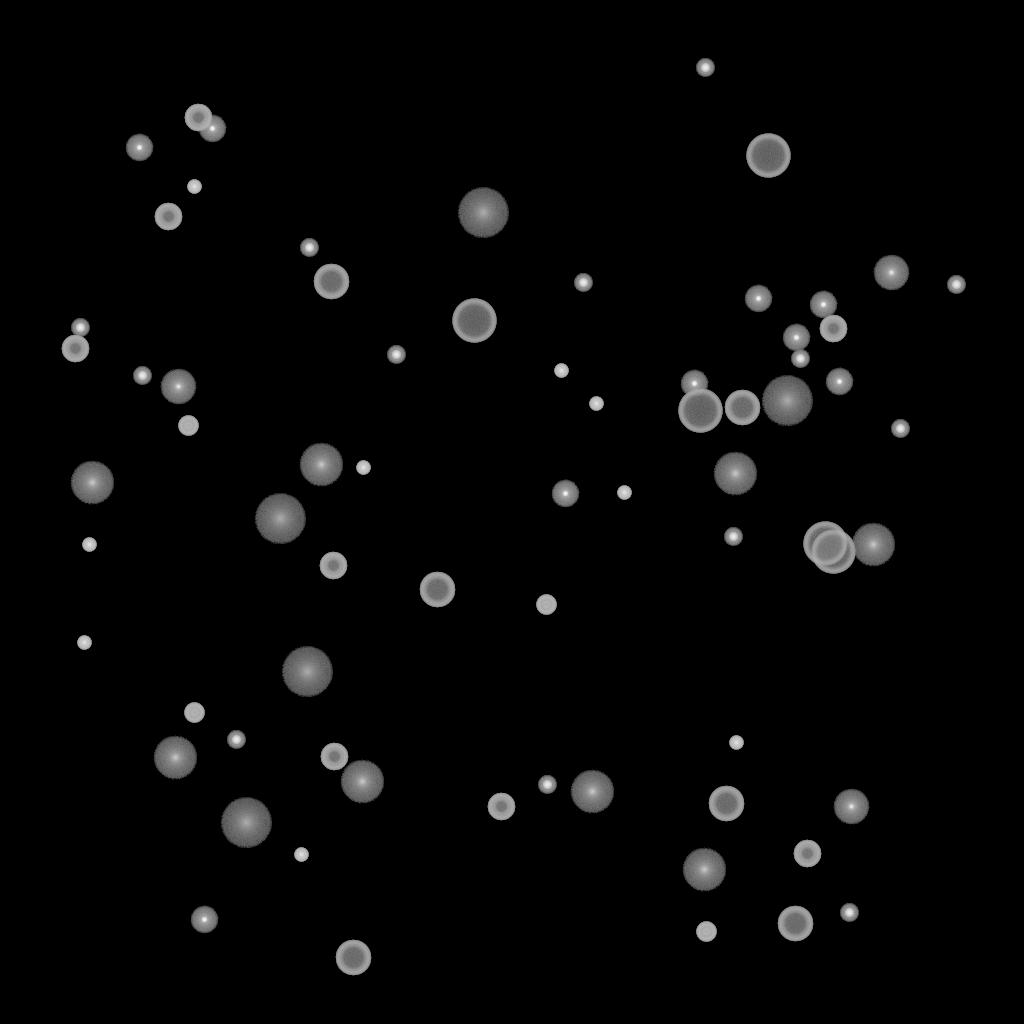depth:-10: (190, 906, 218, 934), (744, 285, 772, 313), (680, 370, 708, 398), (825, 368, 853, 396), (809, 291, 837, 319), (198, 115, 226, 143), (551, 480, 579, 508), (125, 134, 153, 162), (782, 324, 810, 352)
depth:-20: (133, 367, 151, 385), (71, 319, 89, 337), (791, 350, 809, 368), (574, 274, 592, 292), (891, 420, 909, 438), (387, 346, 405, 364), (227, 731, 245, 749), (696, 59, 714, 77), (538, 776, 556, 794), (840, 904, 858, 922), (300, 239, 318, 257), (724, 528, 742, 546), (947, 276, 965, 294)
depth:-30: (554, 364, 568, 378), (617, 486, 631, 500), (356, 461, 370, 475), (729, 736, 743, 750), (82, 538, 96, 552), (77, 636, 91, 650), (589, 397, 603, 411), (294, 848, 308, 862), (187, 180, 201, 194)
depth:-40: (536, 595, 556, 615), (178, 416, 198, 436), (696, 922, 716, 942), (184, 703, 204, 723)
depth:-50: (184, 104, 212, 132), (487, 793, 515, 821), (819, 315, 847, 343), (793, 840, 821, 868), (154, 203, 182, 231), (61, 335, 89, 363), (320, 743, 348, 771), (319, 552, 347, 580)
depth:-60: (724, 390, 760, 426), (313, 264, 349, 300), (777, 906, 813, 942), (335, 940, 371, 976), (419, 572, 455, 608), (708, 786, 744, 822)
depth:-70: (811, 530, 855, 574), (803, 522, 847, 566), (678, 389, 722, 433), (746, 134, 790, 178), (452, 299, 496, 343)
depth:0: (833, 789, 869, 825), (873, 255, 909, 291), (160, 369, 196, 405)
depth:10: (340, 760, 384, 804), (851, 523, 895, 567), (682, 848, 726, 892), (70, 461, 114, 505), (153, 736, 197, 780), (713, 452, 757, 496), (570, 770, 614, 814), (299, 443, 343, 487)
depth:20: (457, 188, 509, 238), (220, 798, 272, 848), (761, 376, 813, 426), (254, 494, 306, 544), (281, 647, 333, 697)
